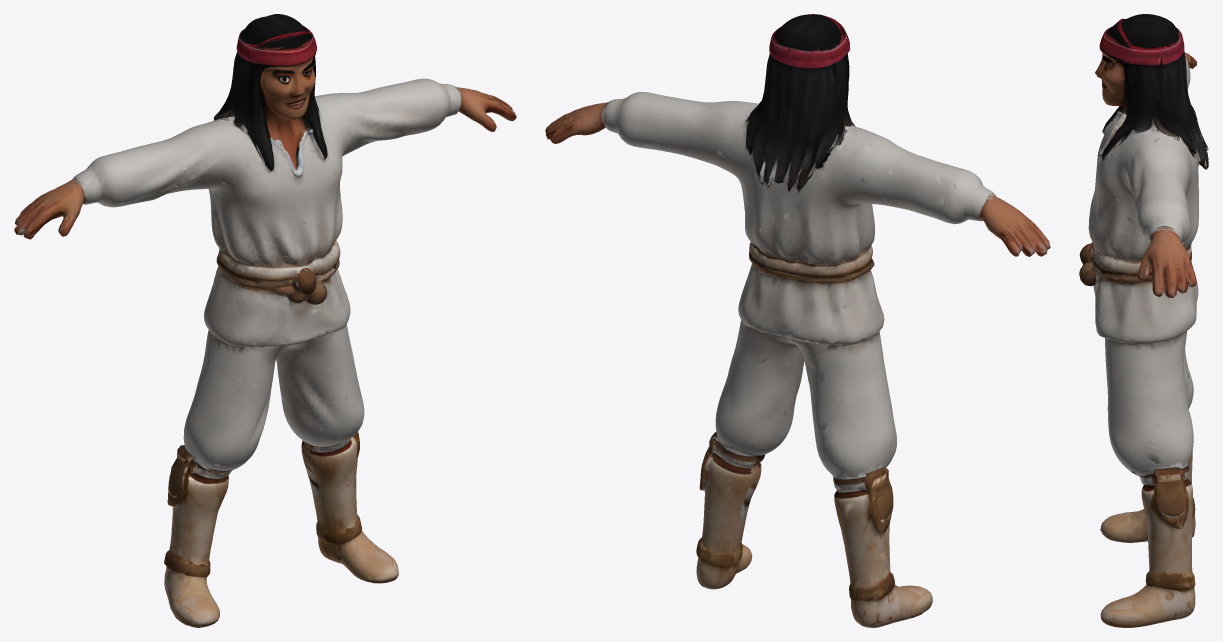
The model's file is poblador_3_mixamo.fbx.
3 views of the same model, side by side, from view 1: azimuth 30°, elevation 25°; view 2: azimuth 150°, elevation 25°; view 3: azimuth 270°, elevation 25° (orthographic). The views are drawn at different scales.
Visible parts, largest first — view 1: poblador_3; view 2: poblador_3; view 3: poblador_3.
Part boxes in pixels (x1,y1,x2,y2): poblador_3: (14,14,516,627); poblador_3: (545,14,1050,627); poblador_3: (1079,14,1208,627).
Bounding box in the file's own units: 155 × 170 × 35.63.
Materials: 1 (1 with a texture image).
